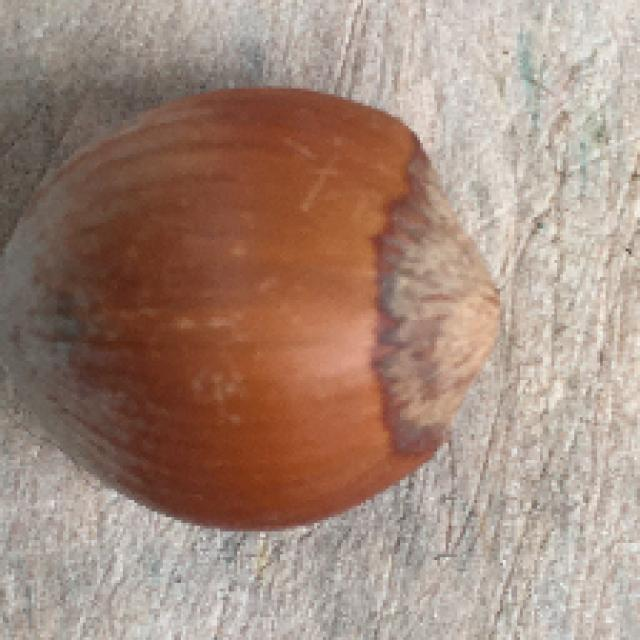qualityHazelnut: (0, 82, 510, 537)
